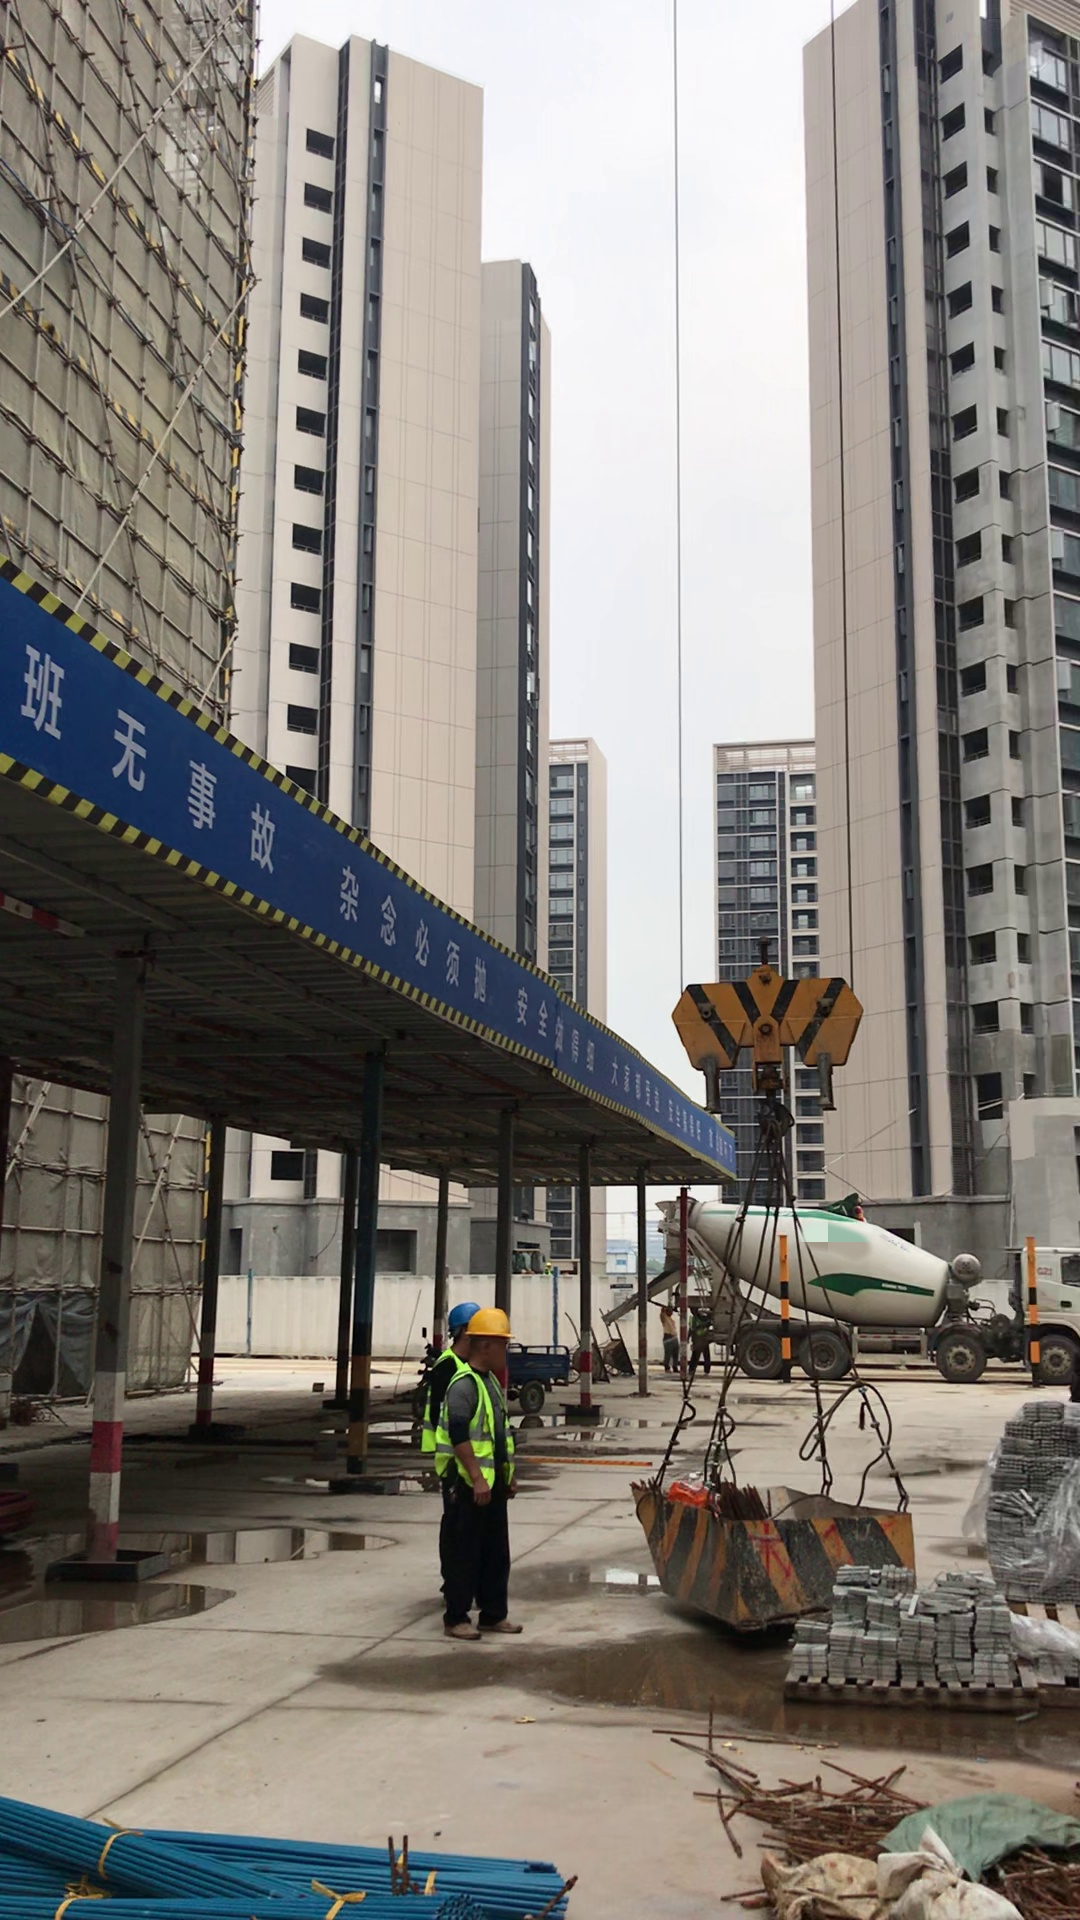handcart: (559, 1304, 639, 1379)
helmet: (461, 1309, 528, 1350), (441, 1290, 481, 1326)
hook: (667, 941, 866, 1093)
person: (435, 1309, 521, 1637), (420, 1293, 488, 1438)
slogan: (18, 609, 728, 1177)
vest: (442, 1356, 499, 1488)
